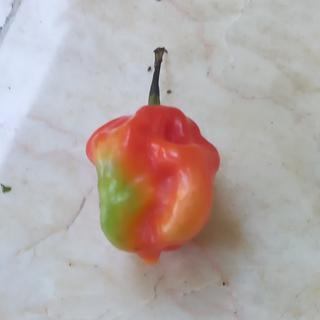Grade-A: (85, 103, 223, 266)
